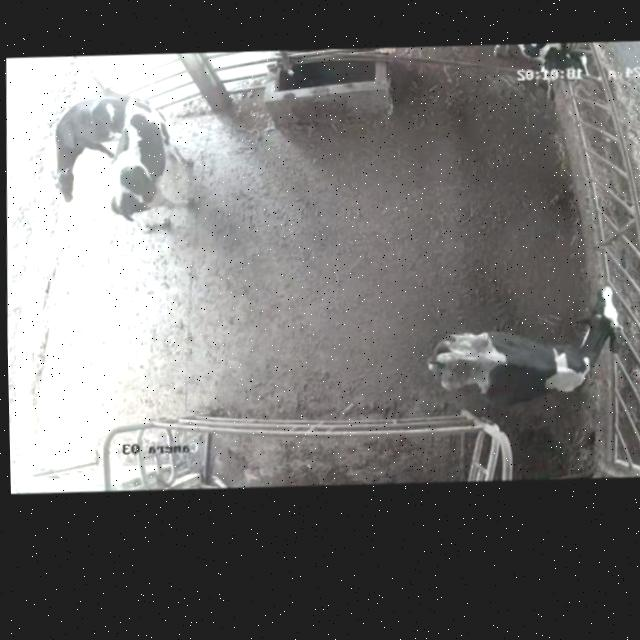propping: (83, 81, 151, 141)
stand: (400, 271, 632, 423), (38, 85, 112, 209)
